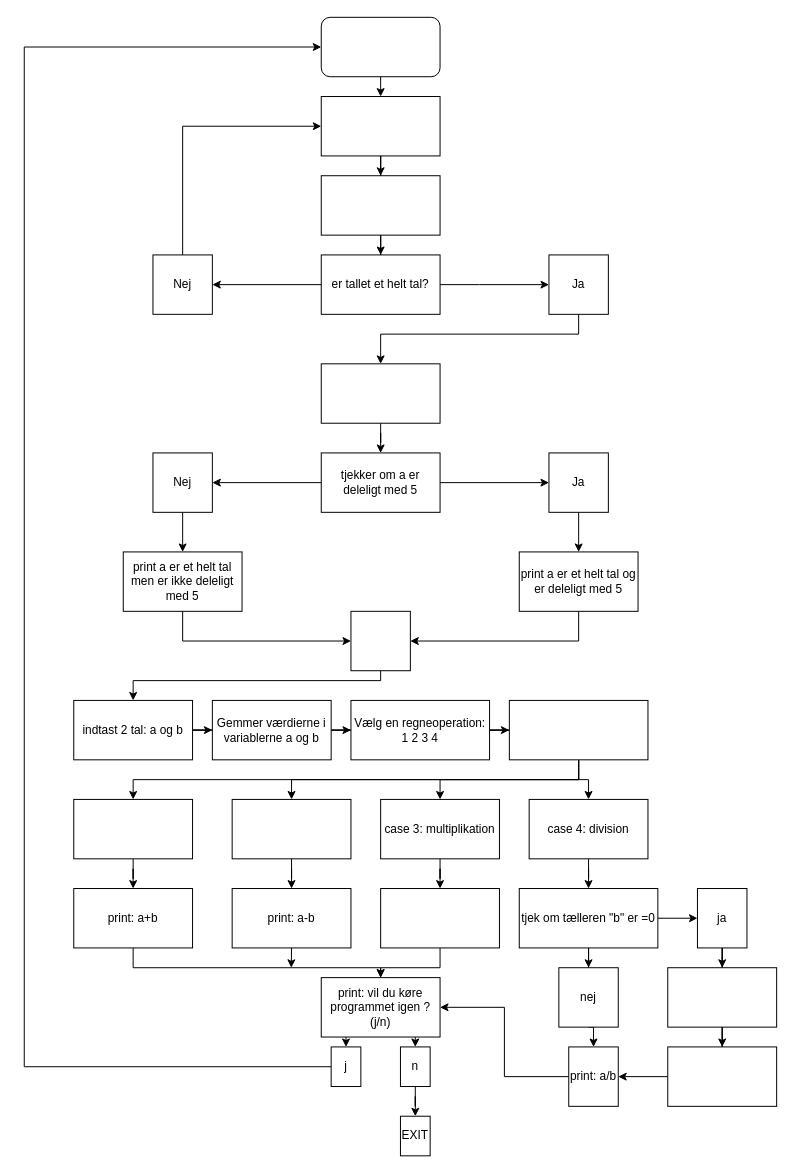
The diagram is 794 pixels wide and 1173 high, and some of its shapes have lost their labels. The shapes that lost their labels are listed below. From the top down, each one's box as (x1, y1, x2, y2) in pixels, then its label:
(320, 16, 440, 77): Start
(320, 96, 440, 156): indtast et tal
(320, 175, 440, 235): indsætter tallet i variablen fkontrol
(320, 363, 440, 423): tallet gemmes i variablen a
(350, 610, 410, 671): Break
(508, 699, 648, 760): valget gemmes i variablen operation
(73, 798, 193, 859): case 1: Multiplikation
(231, 798, 351, 859): case 2: subtraction
(380, 888, 499, 948): print: a*b
(667, 967, 777, 1027): print: indtast et nyt tal der ikke er 0
(667, 1046, 777, 1106): svaret gemmes i b
